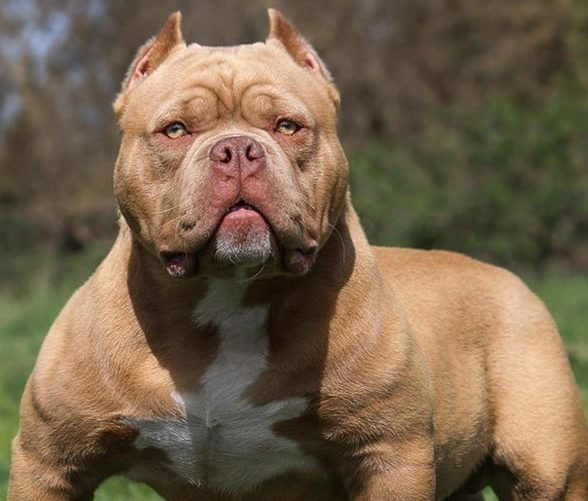dog: (7, 8, 588, 500)
